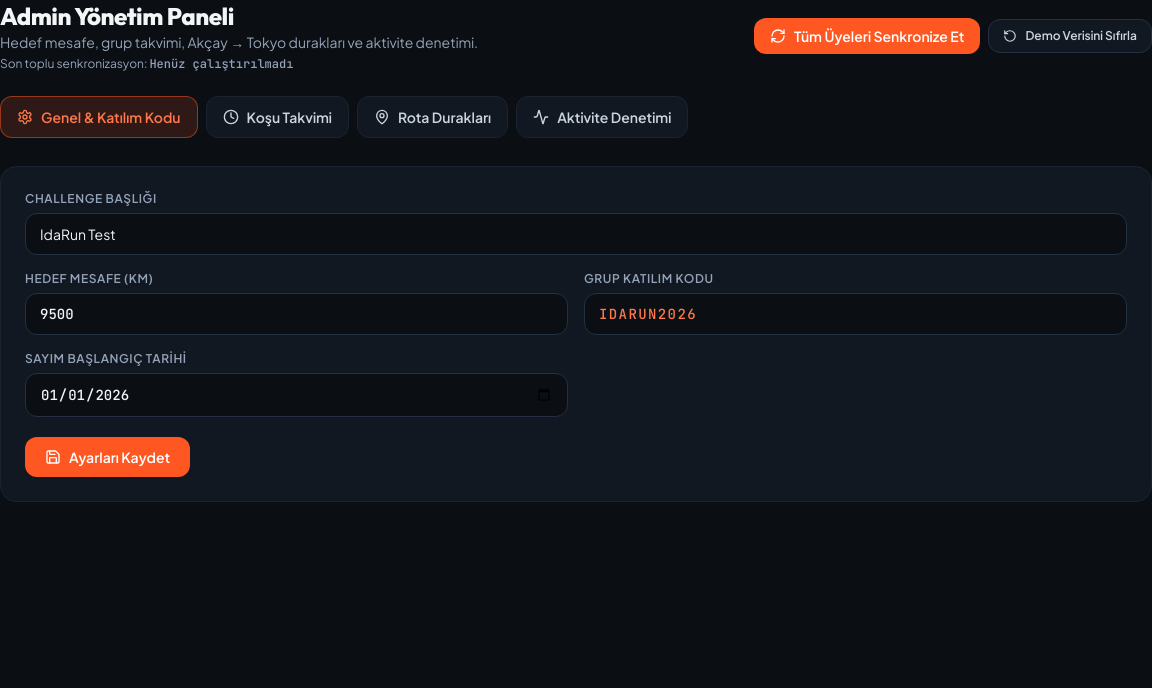
Test case: AdminPanel koşu takvimi düzenleme (edit) › Vazgeç butonuna basılınca değişikliği geri alır ve geçersiz saat aralığını reddeder
Later steps or results of the test are not shown.
Step 1. Click the button "Koşu Takvimi" → (277,117), box [206,96,349,138]
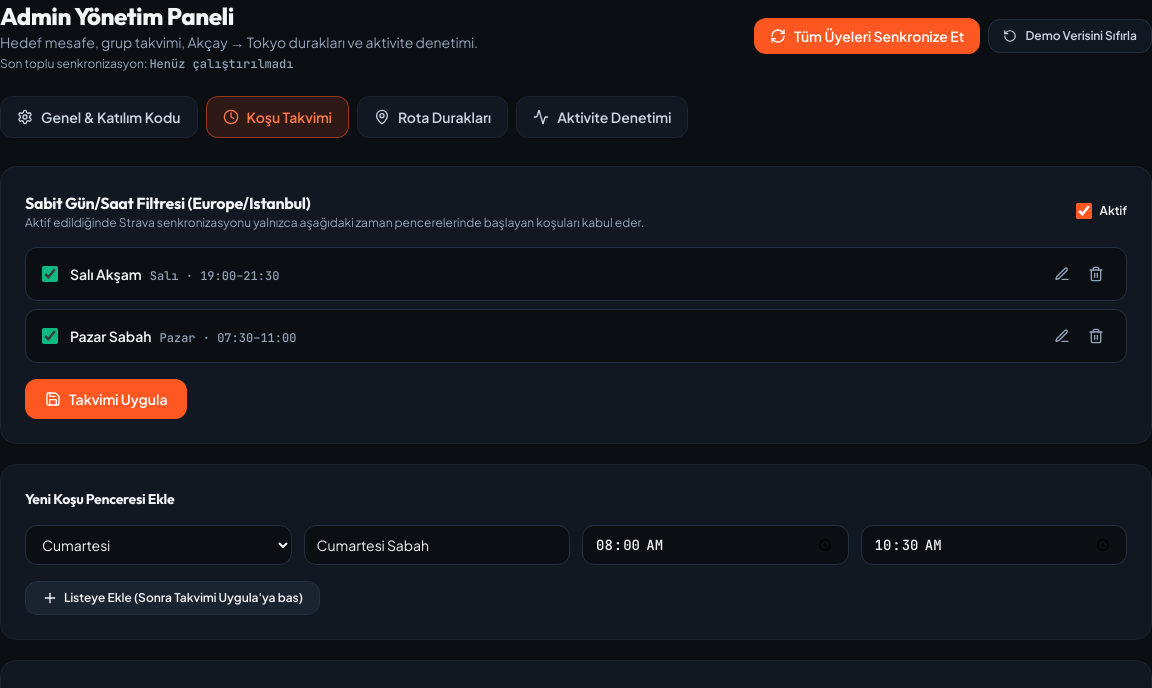
# Düzenle ve değiştir, sonra Vazgeç
Step 2. Click the button named "Pencereyi düzenle" in the row of "21:30" → (1062,274), box [1048,260,1076,288]
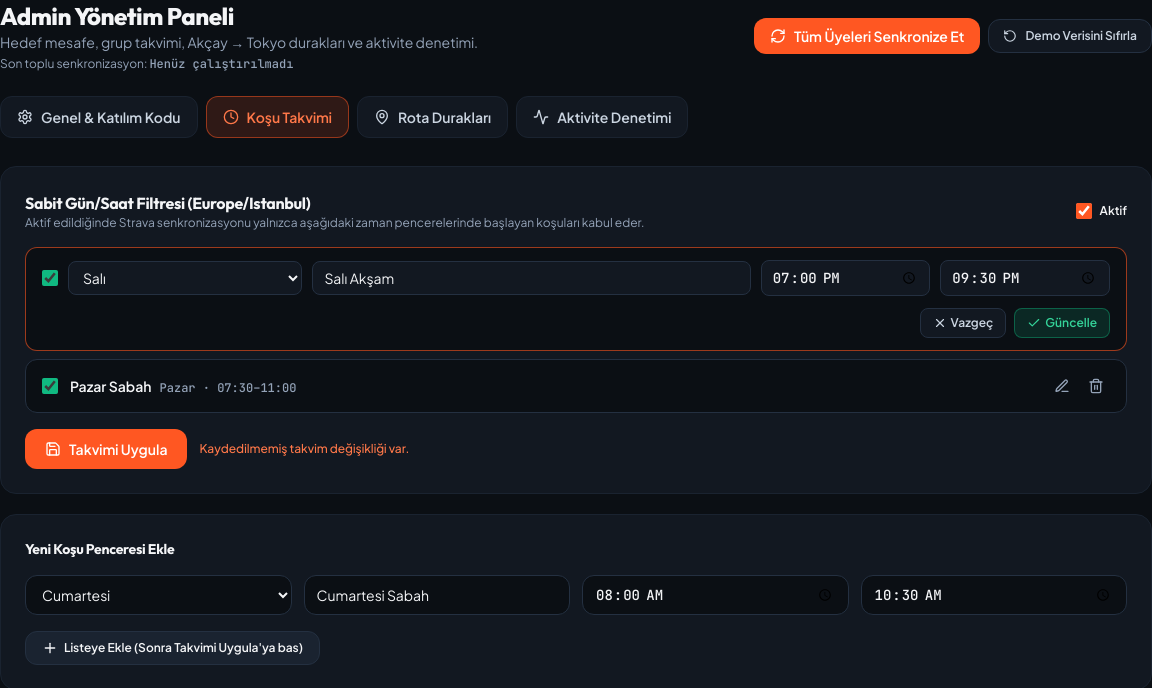
Step 3. Replace the text in the field named "Koşu etiketi" with "Geçici Etiket" → (531,278), box [312,261,751,295]
Step 4. Click the button with aria-label "Düzenlemeden vazgeç" → (963,323), box [920,308,1006,338]
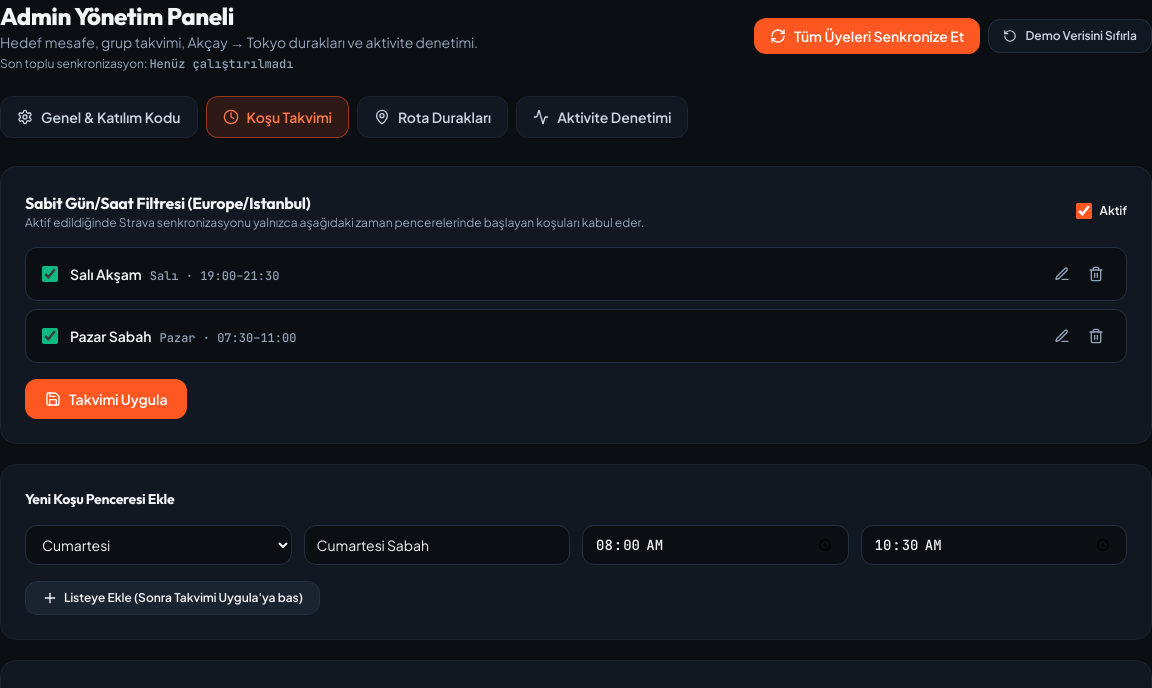
Check: the text "Salı Akşam" is shown, box [70,265,142,283]
Step 5. Click the button named "Pencereyi düzenle" in the row of "21:30" → (1062,274), box [1048,260,1076,288]
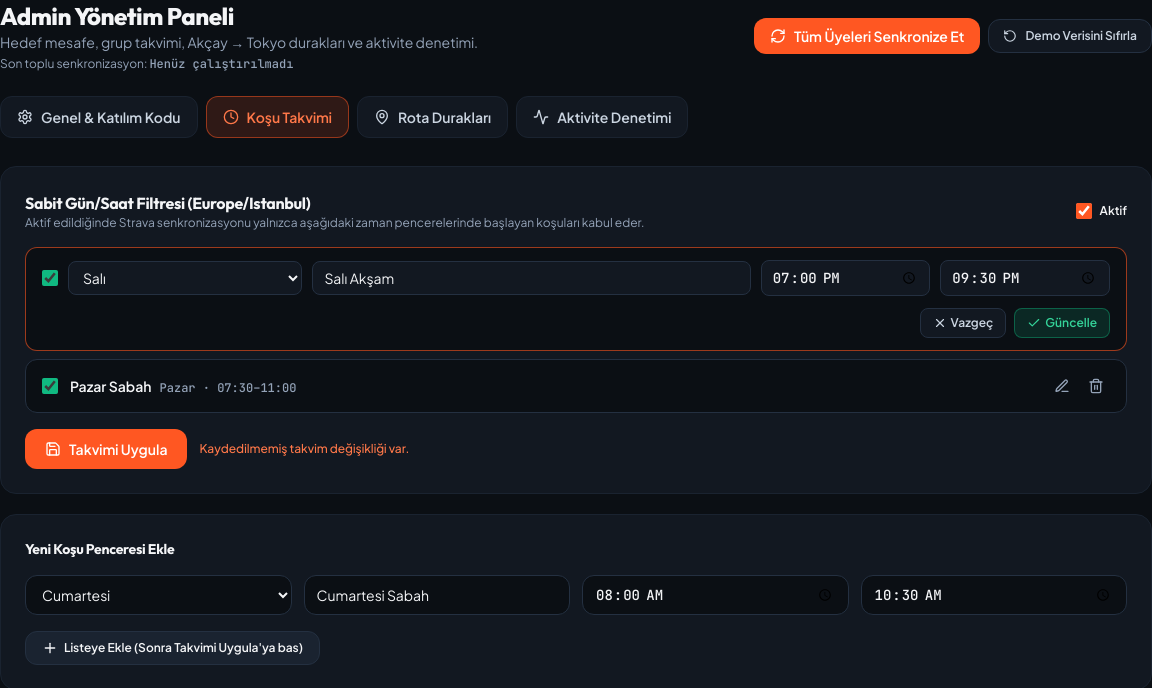
Step 6. Replace the text in the time field named "Başlangıç saati" with "21:00" → (846,278), box [761,260,930,296]
Step 7. Replace the text in the time field named "Bitiş saati" with "19:00" → (1025,278), box [940,260,1110,296]
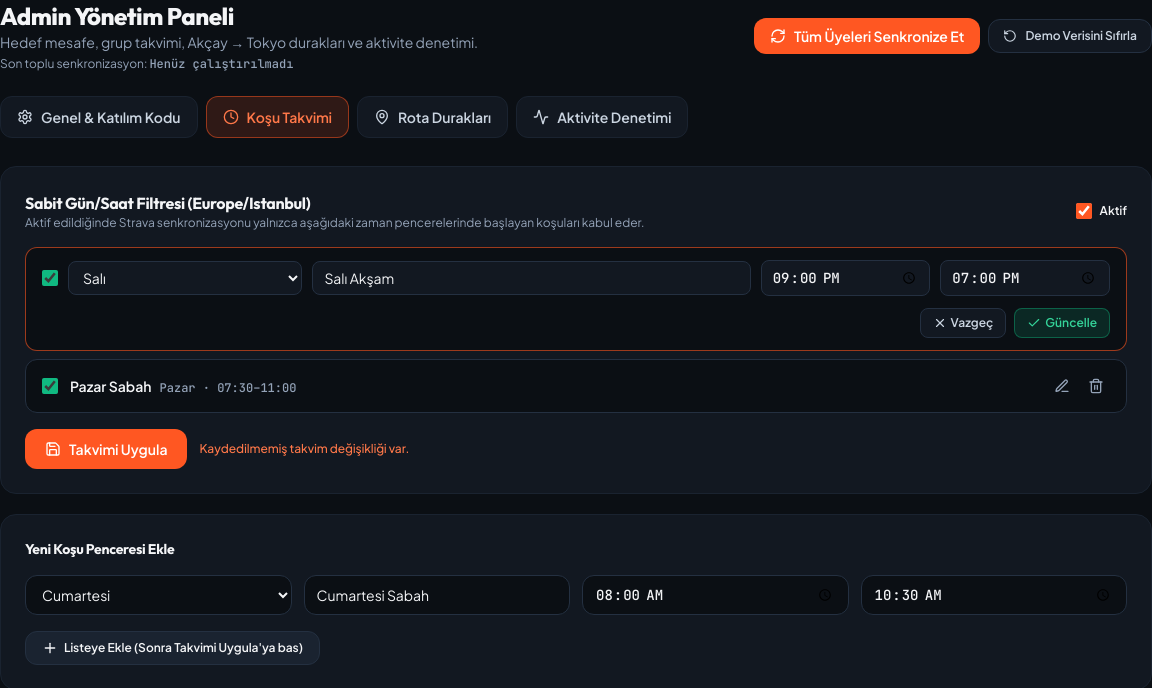
Step 8. Click the button with aria-label "Düzenlemeyi kaydet" → (1062,323), box [1014,308,1110,338]
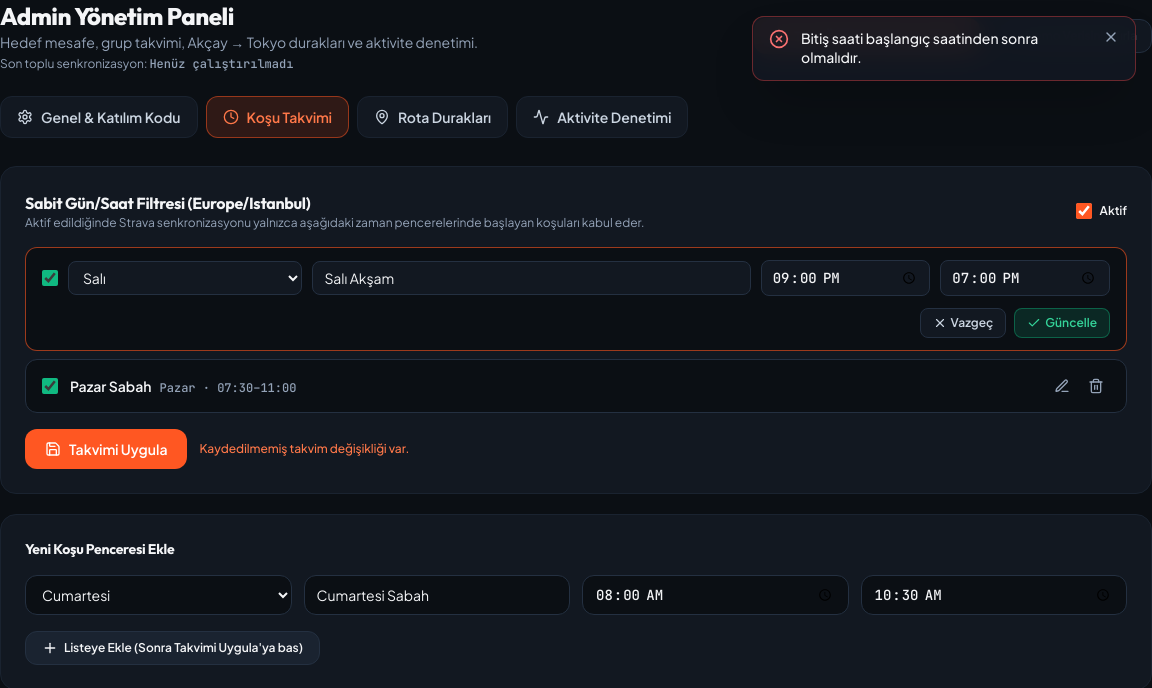
Check: the element with test id "schedule-edit-row-tue-eve" is shown, box [25,247,1127,351]
Check: the text "Bitiş saati başlangıç saatinden sonra olmalıdır." is shown, box [801,29,1038,66]
